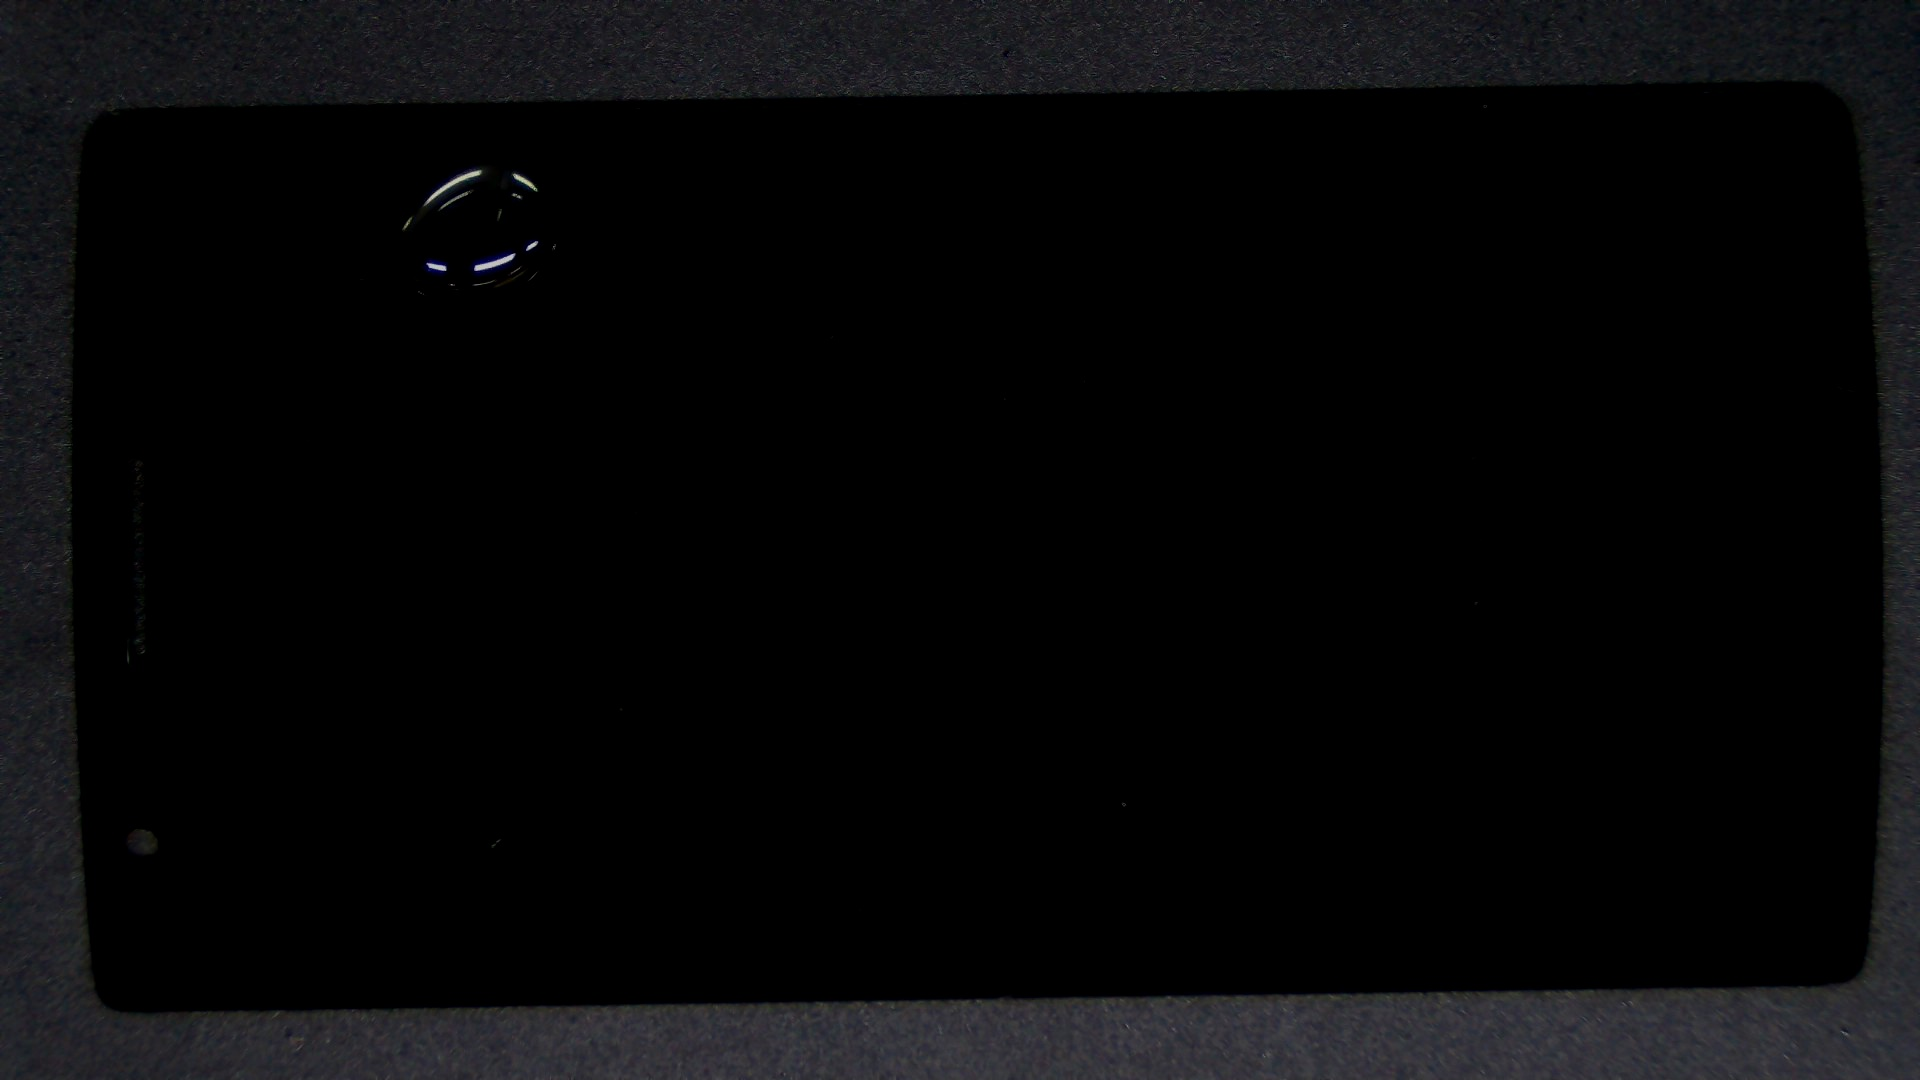oil: (244, 78, 728, 236)
